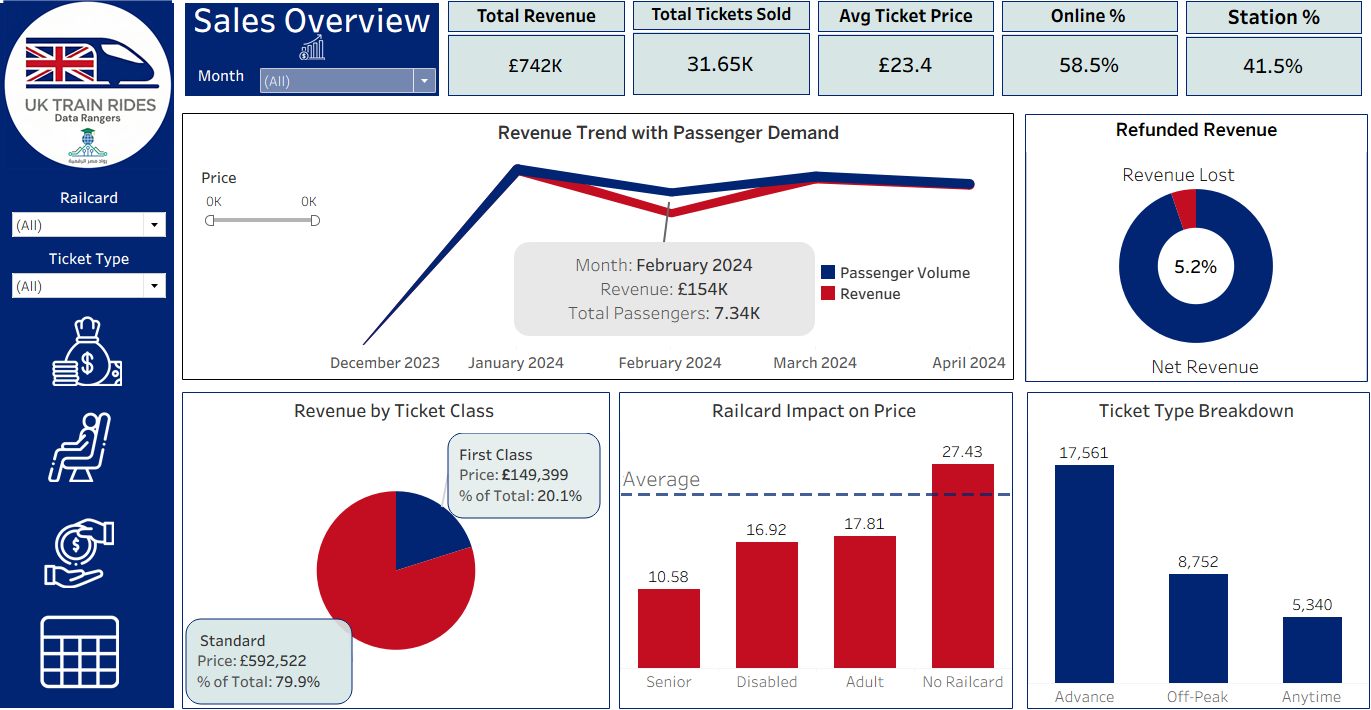

What the dashboard file says about the page in this screenshot:
{"tool":"tableau","page":{"name":"page 1 (Sales Overview)","canvas":[1380,720],"ordinal":1},"visuals":[{"type":"image","param":"Image/Data Rangers.png","box":[5,3,169,184]},{"type":"worksheet","title":"Total Revenue","mark":"Automatic","box":[446,7,185,103]},{"type":"worksheet","title":"Total Tickets Sold","mark":"Automatic","box":[631,7,185,103]},{"type":"worksheet","title":"Avg Ticket Price","mark":"Automatic","box":[816,7,184,103]},{"type":"worksheet","title":"Online % ","mark":"Automatic","box":[1000,7,184,103]},{"type":"worksheet","title":"Station %","mark":"Automatic","box":[1184,7,184,103]},{"type":"blank","box":[2,13,174,705]},{"type":"text","box":[187,13,254,31]},{"type":"image","param":"Image/unnamed-removebg-preview.png","box":[187,44,254,31]},{"type":"filter","title":"Ticket Type Breakdown ","param":"[federated.1v9mgo00v5v99i13xadkg0jli41o].[none:Month:nk]","box":[187,75,254,31]},{"type":"filter","title":"rev trend","param":"[federated.1v9mgo00v5v99i13xadkg0jli41o].[none:Price:qk]","box":[185,124,141,265]},{"type":"worksheet","title":"rev trend","mark":"Automatic","rows":["Price","Calculation_730146102696271872"],"cols":["Date of Purchase"],"box":[326,124,689,265]},{"type":"worksheet","title":"Purchase Channel Breakdown ","mark":"Pie","rows":["Calculation_730146102735286281","Calculation_730146102735306763"],"box":[1027,124,343,268]},{"type":"filter","title":"Ticket Type Breakdown ","param":"[federated.1v9mgo00v5v99i13xadkg0jli41o].[none:Railcard:nk]","box":[11,197,160,57]},{"type":"legend","title":"rev trend","param":"[federated.1v9mgo00v5v99i13xadkg0jli41o].[:Measure Names]","box":[820,250,179,64]},{"type":"filter","title":"Railcard Impact on Price ","param":"[federated.1v9mgo00v5v99i13xadkg0jli41o].[none:Ticket Type:nk]","box":[11,258,160,57]},{"type":"dashboard-object","box":[41,326,97,70]},{"type":"worksheet","title":"Revenue by Ticket Class ","mark":"Pie","box":[184,402,428,317]},{"type":"worksheet","title":"Railcard Impact on Price ","mark":"Automatic","rows":["Price"],"cols":["Railcard"],"box":[621,402,394,317]},{"type":"worksheet","title":"Ticket Type Breakdown ","mark":"Automatic","rows":["Transaction ID"],"cols":["Ticket Type"],"box":[1029,402,343,317]},{"type":"dashboard-object","box":[33,422,97,70]},{"type":"blank","box":[626,467,79,33]},{"type":"text","box":[621,473,100,30]},{"type":"dashboard-object","box":[33,528,97,70]},{"type":"dashboard-object","box":[33,622,97,79]}]}

Visuals, with their boxes in screenshot pixels (x1, y1, x2, y2), scaled from the page's 1380x720 canvas onto the 1371x710 screenshot:
image: bbox(5, 3, 173, 184)
"Total Revenue" worksheet: bbox(443, 7, 627, 108)
"Total Tickets Sold" worksheet: bbox(627, 7, 811, 108)
"Avg Ticket Price" worksheet: bbox(811, 7, 993, 108)
"Online % " worksheet: bbox(993, 7, 1176, 108)
"Station %" worksheet: bbox(1176, 7, 1359, 108)
blank: bbox(2, 13, 175, 708)
text: bbox(186, 13, 438, 43)
image: bbox(186, 43, 438, 74)
"Ticket Type Breakdown " filter: bbox(186, 74, 438, 105)
"rev trend" filter: bbox(184, 122, 324, 384)
"rev trend" worksheet: bbox(324, 122, 1008, 384)
"Purchase Channel Breakdown " worksheet (Pie marks): bbox(1020, 122, 1361, 387)
"Ticket Type Breakdown " filter: bbox(11, 194, 170, 250)
"rev trend" legend: bbox(815, 247, 992, 310)
"Railcard Impact on Price " filter: bbox(11, 254, 170, 311)
dashboard-object: bbox(41, 321, 137, 390)
"Revenue by Ticket Class " worksheet (Pie marks): bbox(183, 396, 608, 709)
"Railcard Impact on Price " worksheet: bbox(617, 396, 1008, 709)
"Ticket Type Breakdown " worksheet: bbox(1022, 396, 1363, 709)
dashboard-object: bbox(33, 416, 129, 485)
blank: bbox(622, 461, 700, 493)
text: bbox(617, 466, 716, 496)
dashboard-object: bbox(33, 521, 129, 590)
dashboard-object: bbox(33, 613, 129, 691)
